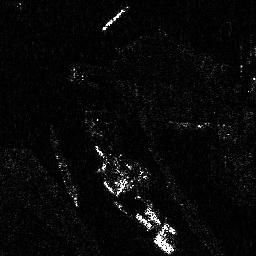ship: (101, 3, 132, 31)
